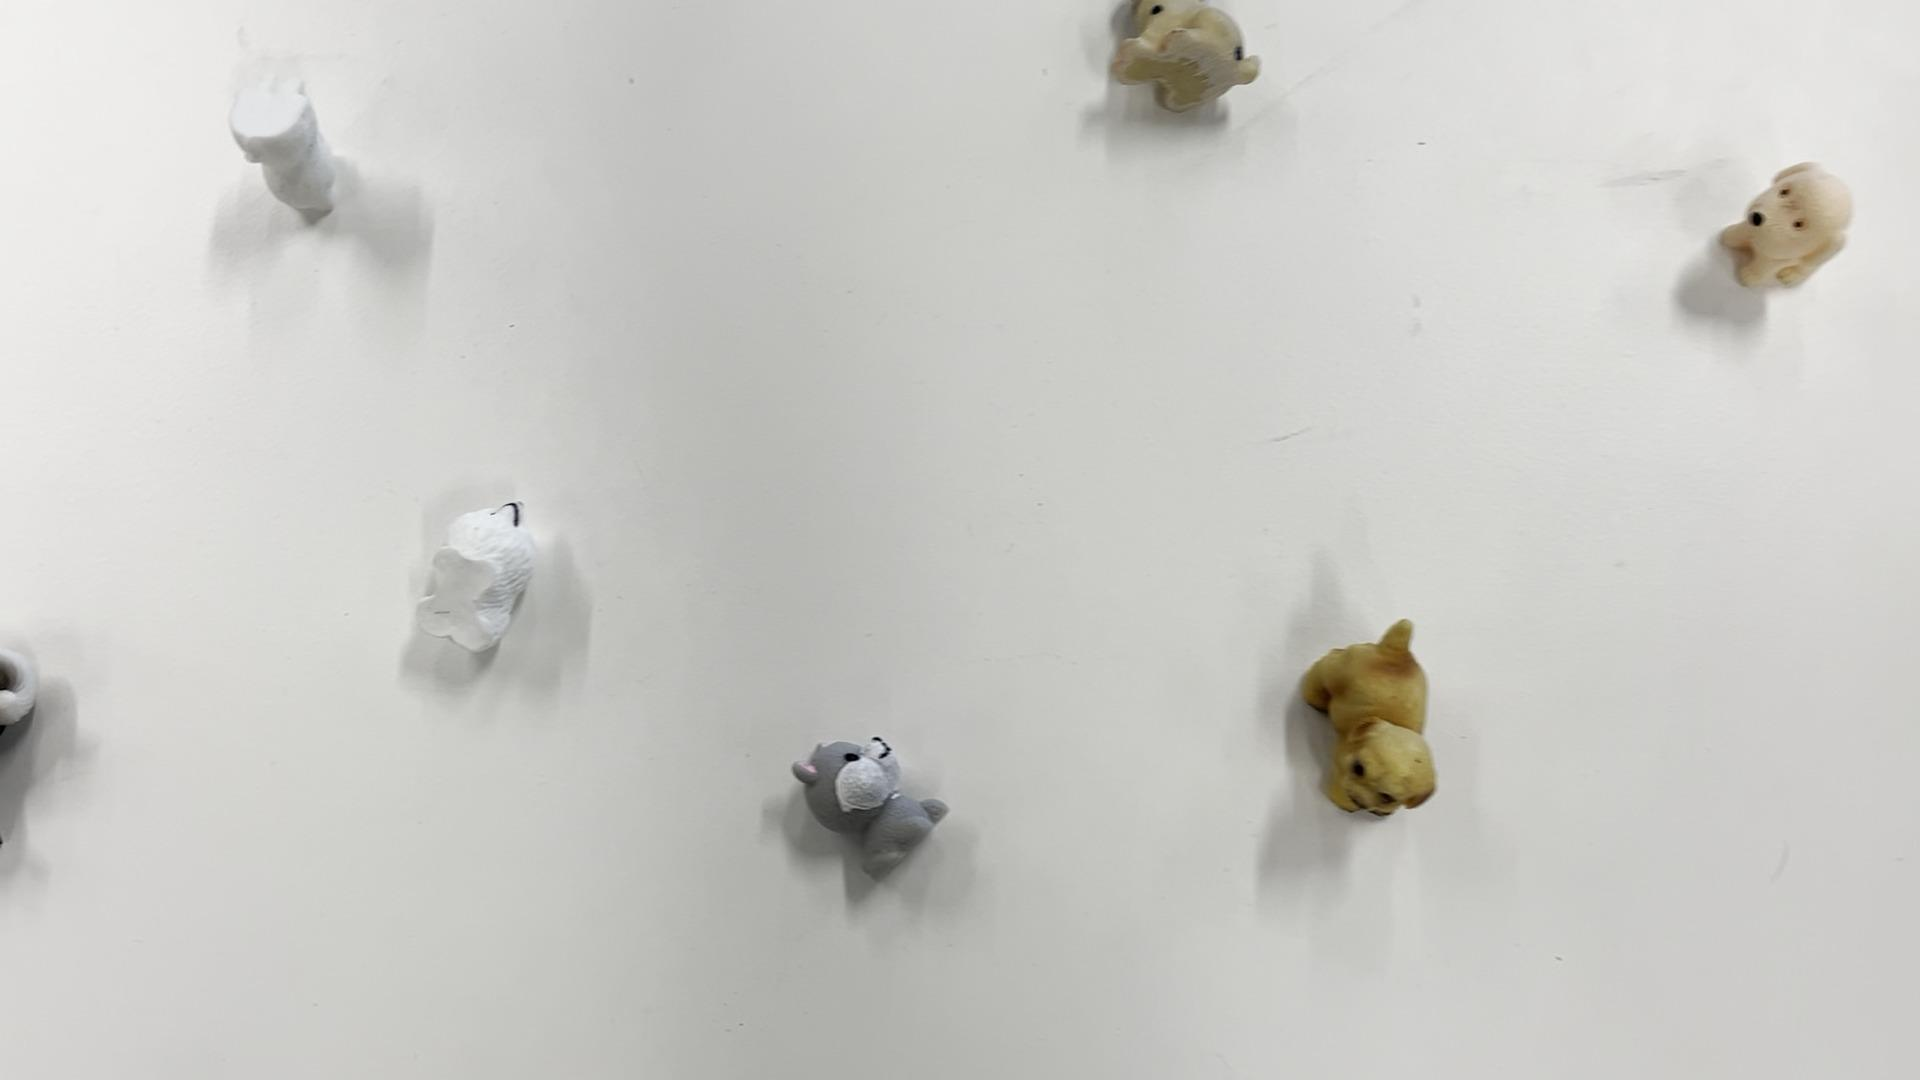pet: (1298, 609, 1447, 837), (798, 723, 952, 899), (1714, 145, 1865, 319), (222, 66, 349, 248), (1105, 0, 1267, 138), (421, 489, 547, 662)
